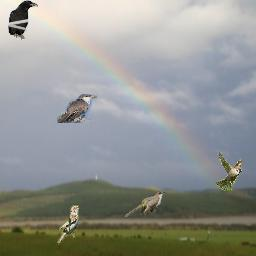Crow: (8, 0, 38, 40)
Cuckoo: (57, 94, 97, 123), (125, 191, 165, 217)
Sparrow: (216, 151, 242, 191), (57, 205, 79, 245)
